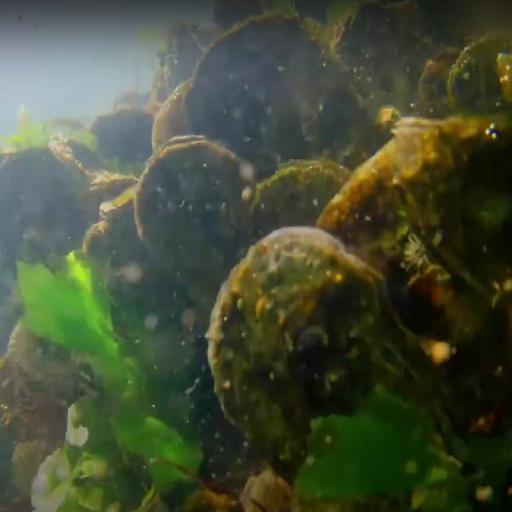Oyster-Closed: (324, 141, 496, 369), (191, 19, 372, 175), (391, 109, 512, 314), (254, 157, 358, 243), (448, 27, 512, 110), (155, 75, 197, 145)
Oyster-Open: (210, 226, 512, 512), (135, 135, 262, 309), (101, 182, 141, 223)
